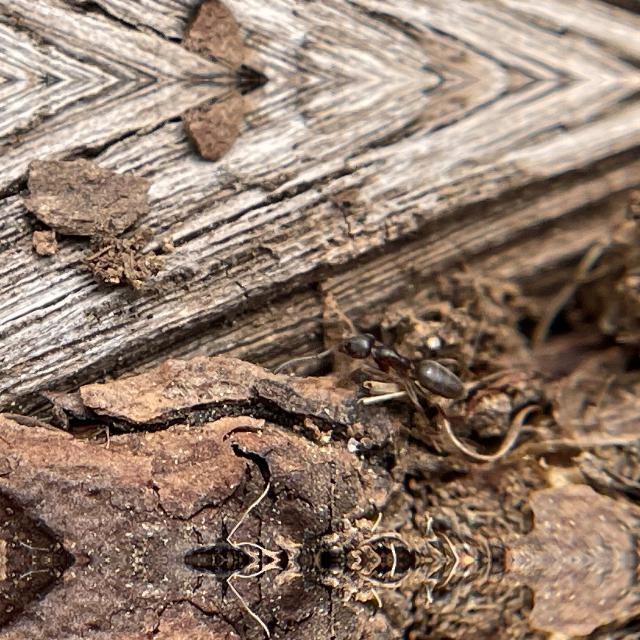Tapinoma: (304, 298, 492, 414)
